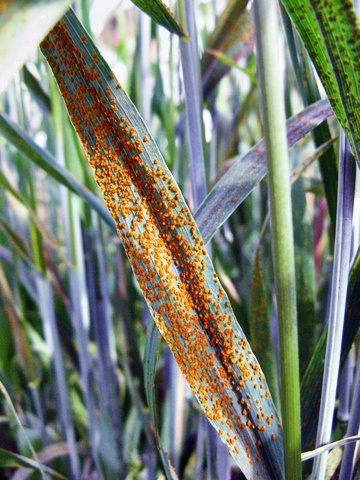Leaf Rust: (55, 47, 282, 441)
